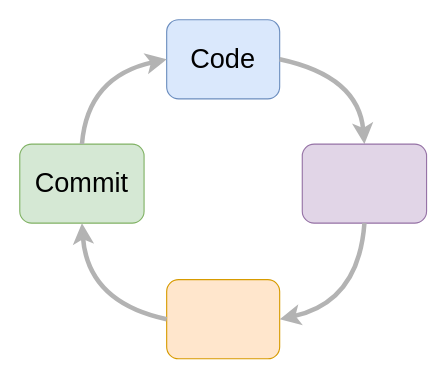
This 446x379 diagram has some shape labels left out. Each missing label, with the centre of its shape:
Build Image: the point at 364,183
Test: the point at 223,319
